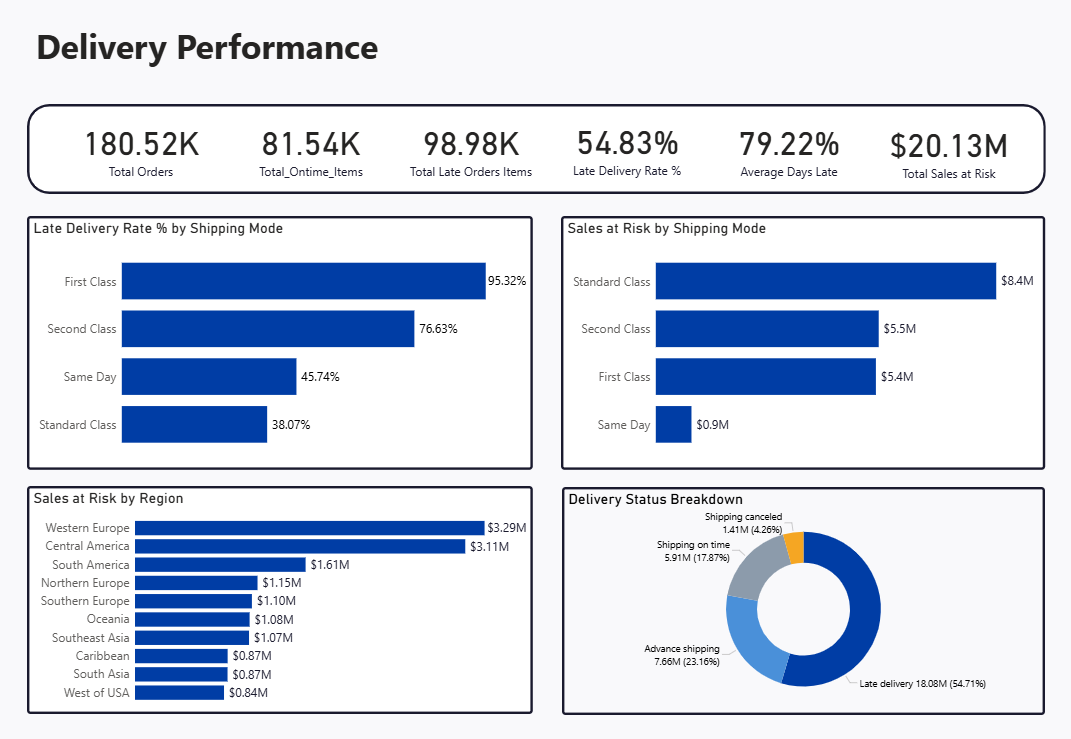

The page's visual inventory and layout, read from the dashboard file:
{"tool":"powerbi","page":{"name":"Delivery Performance","canvas":[1800,1250],"ordinal":2},"visuals":[{"type":"barChart","title":"Late Delivery Rate % by Shipping Mode","fields":{"Category":["MART_LATE_DELIVERY_IMPACT.SHIPPING_MODE"],"Y":["MART_LATE_DELIVERY_IMPACT.Late Delivery Rate %"]},"box":[56.7,376.7,843.3,423.3],"z":0},{"type":"barChart","title":"Sales at Risk by Shipping Mode","fields":{"Category":["MART_LATE_DELIVERY_IMPACT.SHIPPING_MODE"],"Y":["Sum(MART_LATE_DELIVERY_IMPACT.Total Sales at Risk)"]},"box":[946.7,376.7,806.7,423.3],"z":1000},{"type":"barChart","title":"Sales at Risk by Region","fields":{"Category":["MART_LATE_DELIVERY_IMPACT.ORDER_REGION"],"Y":["Sum(MART_LATE_DELIVERY_IMPACT.Total Sales at Risk)"]},"box":[56.7,826.7,843.3,380],"z":2000},{"type":"donutChart","title":"Delivery Status Breakdown","fields":{"Category":["FACT_ORDERS.DELIVERY_STATUS"],"Y":["Sum(FACT_ORDERS.ORDER_ITEM_TOTAL)"]},"box":[947.5,827.5,805,380],"z":3000},{"type":"textbox","box":[56,50,600,106],"z":4000},{"type":"shape","box":[56,190,1698,150],"z":5000},{"type":"card","fields":{"Values":["Sum(MART_LATE_DELIVERY_IMPACT.TOTAL_ORDER_ITEMS)"]},"box":[136.7,186.7,220,150],"z":6000},{"type":"card","fields":{"Values":["MART_LATE_DELIVERY_IMPACT.Late Delivery Rate %"]},"box":[947.1,185.7,220,150],"z":7000},{"type":"card","fields":{"Values":["MART_LATE_DELIVERY_IMPACT.Avg_Days_Late1"]},"box":[1216.7,186.7,220,150],"z":8000},{"type":"card","fields":{"Values":["MART_LATE_DELIVERY_IMPACT.Total_Ontime_Items"]},"box":[420,186.7,220,150],"z":9000},{"type":"card","fields":{"Values":["Sum(MART_LATE_DELIVERY_IMPACT.LATE_ORDERS_ITEMS)"]},"box":[686.7,186.7,220,150],"z":10000},{"type":"card","fields":{"Values":["Sum(MART_LATE_DELIVERY_IMPACT.Total Sales at Risk)"]},"box":[1483.3,190,220,150],"z":11000}]}

Visuals, with their boxes in screenshot pixels (x1, y1, x2, y2), scaled from the page's 1800x1250 canvas onto the 1071x739 screenshot:
"Late Delivery Rate % by Shipping Mode" barChart: {"left": 34, "top": 223, "right": 536, "bottom": 473}
"Sales at Risk by Shipping Mode" barChart: {"left": 563, "top": 223, "right": 1043, "bottom": 473}
"Sales at Risk by Region" barChart: {"left": 34, "top": 489, "right": 536, "bottom": 713}
"Delivery Status Breakdown" donutChart: {"left": 564, "top": 489, "right": 1043, "bottom": 714}
textbox: {"left": 33, "top": 30, "right": 390, "bottom": 92}
shape: {"left": 33, "top": 112, "right": 1044, "bottom": 201}
card - Sum(MART_LATE_DELIVERY_IMPACT.TOTAL_ORDER_ITEMS): {"left": 81, "top": 110, "right": 212, "bottom": 199}
card - MART_LATE_DELIVERY_IMPACT.Late Delivery Rate %: {"left": 564, "top": 110, "right": 694, "bottom": 198}
card - MART_LATE_DELIVERY_IMPACT.Avg_Days_Late1: {"left": 724, "top": 110, "right": 855, "bottom": 199}
card - MART_LATE_DELIVERY_IMPACT.Total_Ontime_Items: {"left": 250, "top": 110, "right": 381, "bottom": 199}
card - Sum(MART_LATE_DELIVERY_IMPACT.LATE_ORDERS_ITEMS): {"left": 409, "top": 110, "right": 539, "bottom": 199}
card - Sum(MART_LATE_DELIVERY_IMPACT.Total Sales at Risk): {"left": 883, "top": 112, "right": 1013, "bottom": 201}
